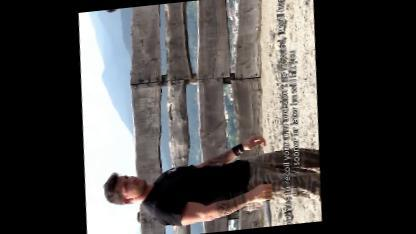knife: (260, 179, 282, 226)
